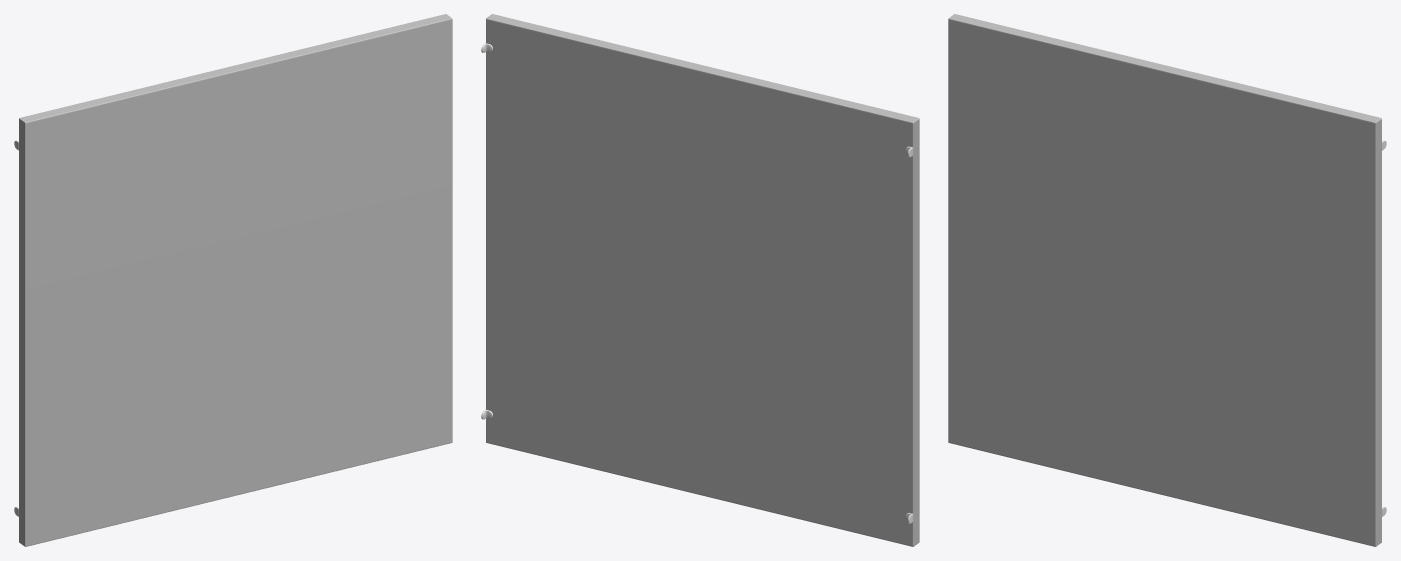
Rendered from SM_Kitchen_01_Shelf.obj.
3 renders of one model, left to right at view 1: azimuth 30°, elevation 25°; view 2: azimuth 150°, elevation 25°; view 3: azimuth 330°, elevation 25°, orthographic.
Visible parts, largest first — view 1: SM_Kitchen_01_Shelf; view 2: SM_Kitchen_01_Shelf; view 3: SM_Kitchen_01_Shelf.
Part boxes in pixels (<box>): SM_Kitchen_01_Shelf: <box>14,14,452,546</box>; SM_Kitchen_01_Shelf: <box>481,14,919,546</box>; SM_Kitchen_01_Shelf: <box>948,14,1386,546</box>.
Size of the model in its own units: 0.5619 by 0.5329 by 0.0249.
Materials: 2 (1 with a texture image).
